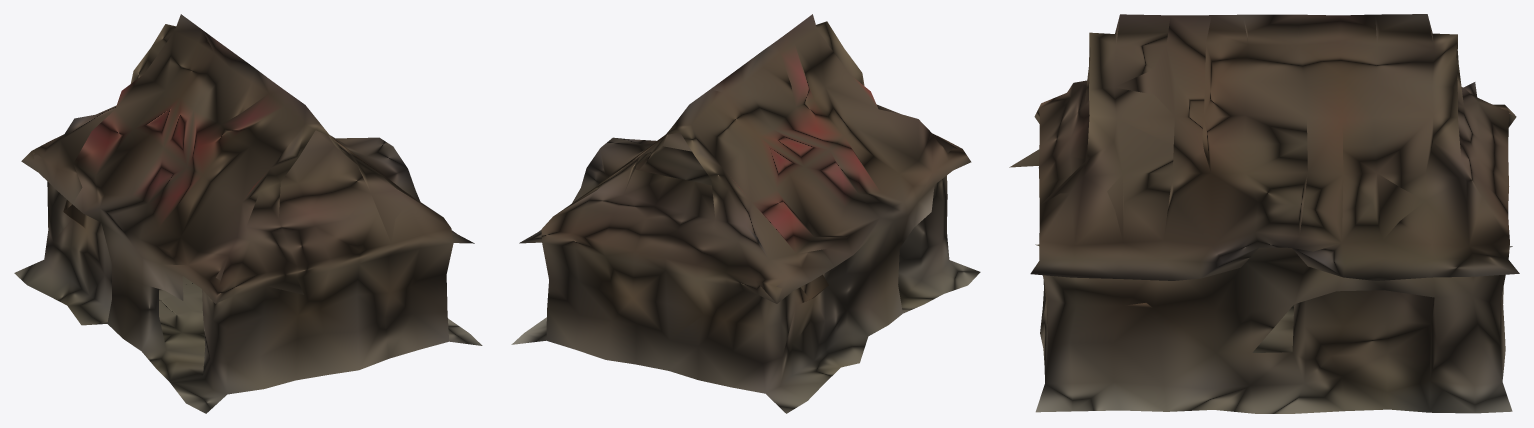
File: farmhouse_b.2.glb
3 renders of one model, left to right at view 1: azimuth 30°, elevation 25°; view 2: azimuth 150°, elevation 25°; view 3: azimuth 270°, elevation 25°, orthographic. The views are drawn at different scales.
Visible parts, largest first — view 1: lod; view 2: lod; view 3: lod.
Part boxes in pixels (box(x1,y1,x2,y2)): lod: box(14, 14, 482, 413); lod: box(511, 14, 980, 413); lod: box(1009, 14, 1519, 413).
Bounding box in the file's own units: 0.764 × 0.6481 × 0.9601.
